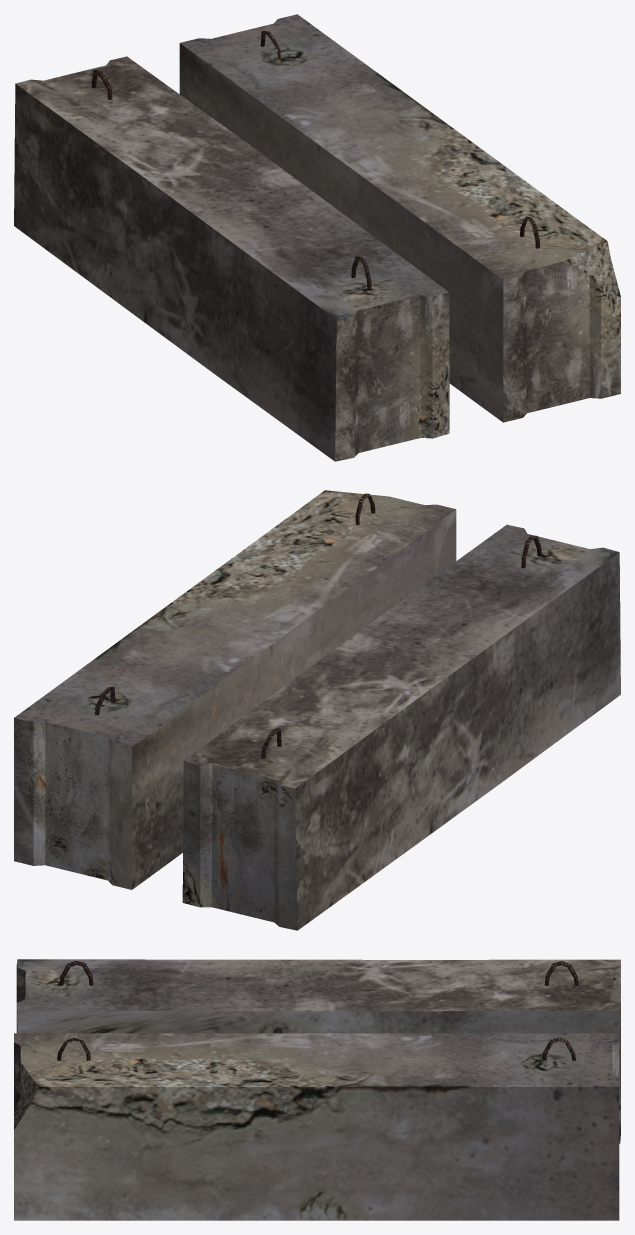
The model's file is blocks.FBX.
3 renders of one model, top to bottom at view 1: azimuth 30°, elevation 25°; view 2: azimuth 150°, elevation 25°; view 3: azimuth 270°, elevation 25°, orthographic. The views are drawn at different scales.
Visible parts, largest first — view 1: block.1, block; view 2: block.1, block; view 3: block, block.1.
Part boxes in pixels (x1=…): block.1: x1=14, y1=56, x2=449, y2=461; block: x1=179, y1=14, x2=620, y2=422; block.1: x1=182, y1=524, x2=620, y2=930; block: x1=14, y1=490, x2=456, y2=889; block: x1=14, y1=1033, x2=619, y2=1220; block.1: x1=16, y1=959, x2=620, y2=1143.
Size of the model in its own units: 1.21 by 0.6787 by 2.39.
